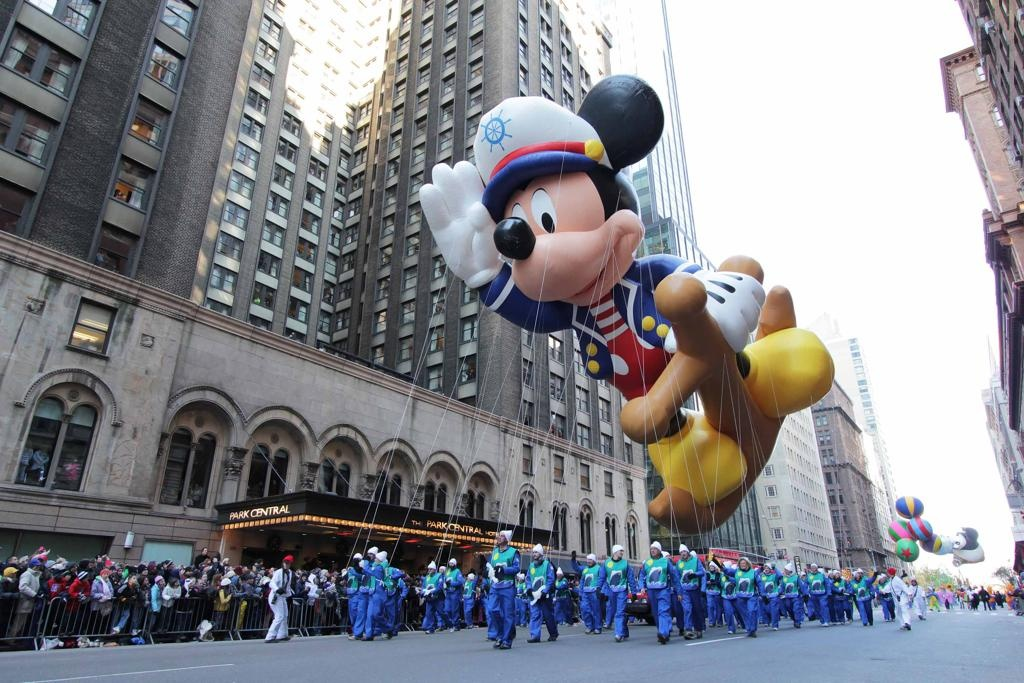human_face: (496, 533, 506, 543), (20, 557, 28, 567), (283, 558, 291, 568), (650, 546, 658, 556), (532, 549, 540, 558), (352, 556, 360, 564), (366, 551, 374, 559), (615, 548, 623, 556), (738, 560, 746, 568), (101, 570, 107, 578), (10, 556, 16, 564), (129, 576, 135, 584), (157, 579, 163, 587), (140, 567, 146, 575), (301, 573, 307, 581), (339, 576, 345, 584), (428, 566, 434, 574), (586, 557, 592, 565), (680, 549, 686, 557), (784, 566, 790, 574), (8, 570, 14, 577), (82, 574, 88, 581), (32, 563, 38, 569), (116, 568, 122, 574), (168, 561, 174, 567), (212, 557, 218, 563), (202, 548, 208, 554), (246, 577, 252, 583), (266, 570, 272, 576), (448, 560, 454, 566), (556, 573, 562, 579), (886, 570, 892, 576), (764, 564, 768, 572), (142, 578, 146, 585), (88, 562, 92, 568), (172, 580, 176, 586), (330, 575, 334, 581), (439, 568, 443, 574), (518, 576, 522, 582), (811, 564, 815, 570), (708, 564, 714, 568), (835, 572, 839, 578), (856, 574, 860, 580), (828, 572, 832, 578), (800, 574, 804, 578), (846, 570, 850, 574), (879, 578, 883, 582), (911, 580, 915, 584)
